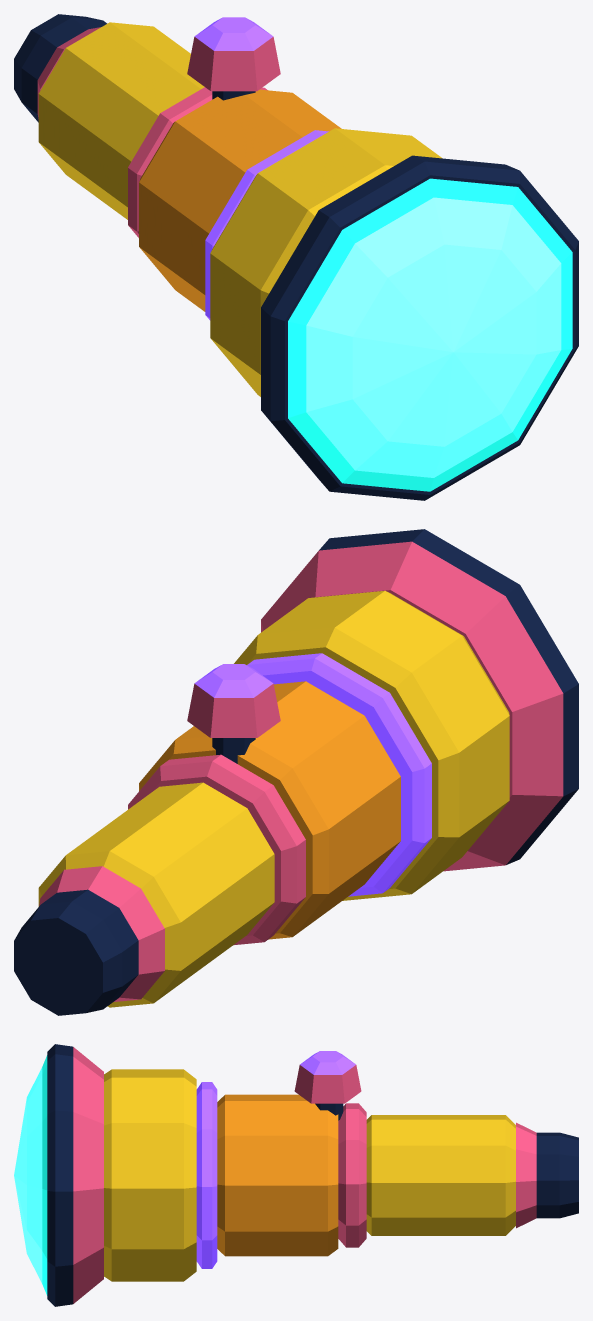
The model's file is spyglass.glb.
The picture shows the model from 3 angles, top to bottom: view 1: azimuth 30°, elevation 25°; view 2: azimuth 150°, elevation 25°; view 3: azimuth 270°, elevation 25°; orthographic projection. The views are drawn at different scales.
Parts seen in each view (by area): view 1: spyglass; view 2: spyglass; view 3: spyglass.
Part boxes in pixels (<box>): spyglass: <box>14,14,578,500</box>; spyglass: <box>14,529,578,1015</box>; spyglass: <box>14,1044,578,1306</box>.
Bounding box in the file's own units: 1.98 × 2.08 × 4.39.
